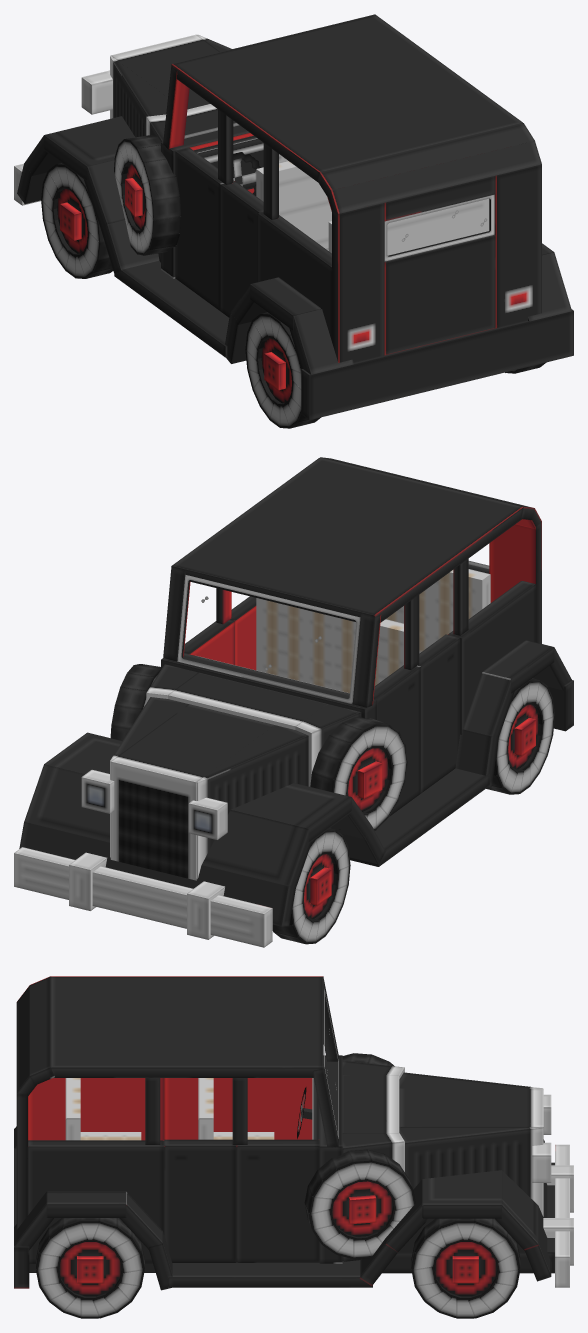
The picture shows the model from 3 angles, top to bottom: view 1: azimuth 30°, elevation 25°; view 2: azimuth 150°, elevation 25°; view 3: azimuth 270°, elevation 25°; orthographic projection. The views are drawn at different scales.
Parts seen in each view (by area): view 1: body0, body6, wheelbody8, body5, body4, wheelbody7, body1, wheelbody0, body2, wheelbody6, wi9, wheelbody2 (+21 smaller); view 2: body0, wheelbody1, body2, body3, body1, wheelbody0, wheelbody4, body6, wi27, wheelbody9, wheelbody6, wi9 (+10 smaller); view 3: body0, body1, wheelbody0, wi36, wi9, wi18, body4, wheelbody6, body2, wheelbody1, body3, body6 (+32 smaller).
Boxes of the visible parts, x1,y1,x2,y2 form: body0: (14, 14, 522, 357); body6: (332, 164, 541, 362); wheelbody8: (301, 309, 573, 419); body5: (327, 141, 541, 213); body4: (317, 123, 534, 198); wheelbody7: (289, 252, 571, 374); body1: (197, 34, 489, 255); wheelbody0: (44, 116, 134, 181); body2: (110, 56, 192, 262); wheelbody6: (250, 243, 553, 330); wi9: (261, 314, 505, 427); wheelbody2: (84, 160, 125, 227); body0: (14, 457, 536, 947); wheelbody1: (24, 764, 311, 886); body2: (197, 704, 361, 878); body3: (163, 567, 381, 707); body1: (110, 569, 490, 857); wheelbody0: (44, 732, 351, 843); wheelbody4: (19, 822, 296, 926); body6: (468, 521, 541, 643); wi27: (340, 717, 388, 830); wheelbody9: (463, 672, 514, 736); wheelbody6: (483, 640, 554, 693); wi9: (508, 680, 538, 793); body0: (27, 976, 573, 1287); body1: (65, 1078, 542, 1261); wheelbody0: (422, 1170, 501, 1229); wi36: (332, 1149, 392, 1259); wi9: (59, 1218, 121, 1318); wi18: (434, 1218, 497, 1318); body4: (29, 976, 54, 1085); wheelbody6: (46, 1191, 126, 1217); body2: (342, 1060, 542, 1088); wheelbody1: (495, 1170, 538, 1252); body3: (312, 979, 338, 1146); body6: (16, 1093, 27, 1229).
Bounding box in the file's own units: 4.62 × 4.37 × 9.23.
